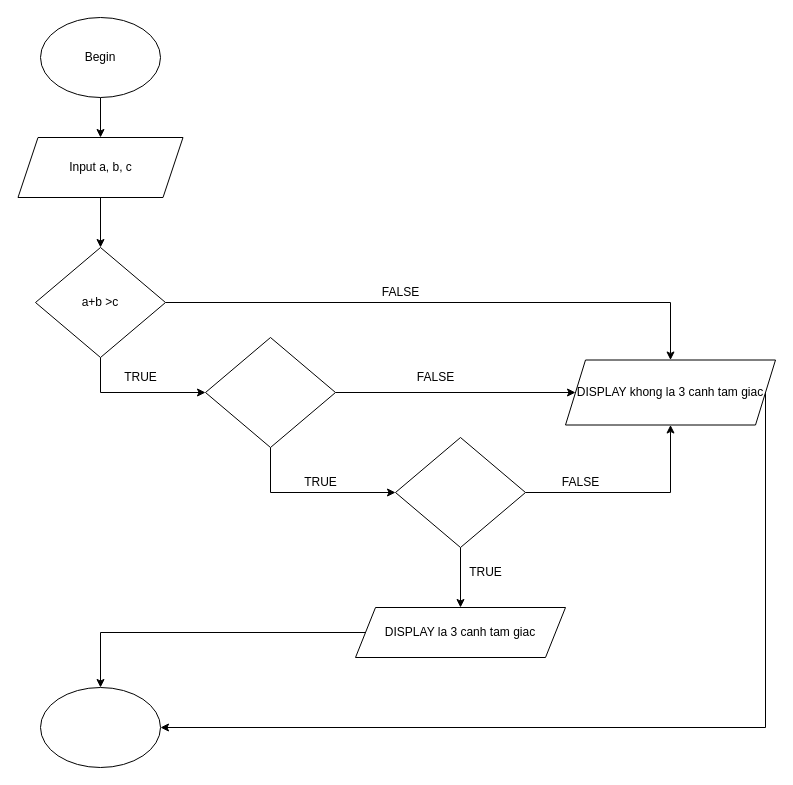
Image size: 793x785. Some labels were removed from this diagram. The centre of each missing label's shape, as x and y in pixels:
"a+c >b" belongs at (460,492).
"b+c >a" belongs at (270,392).
"End" belongs at (100,727).
